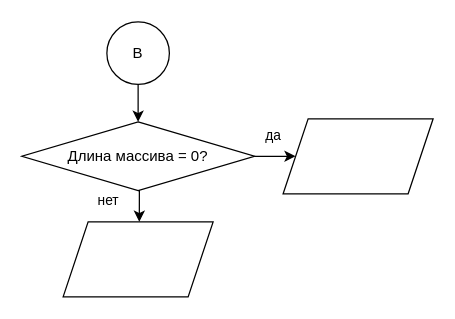
Some shapes in this 455 by 319 pixel diagram are drawn without their labels. The centre of each missing label's shape, as x and y in pixels:
Вывод массива: the point at 137,259
Массив пуст: the point at 357,156
